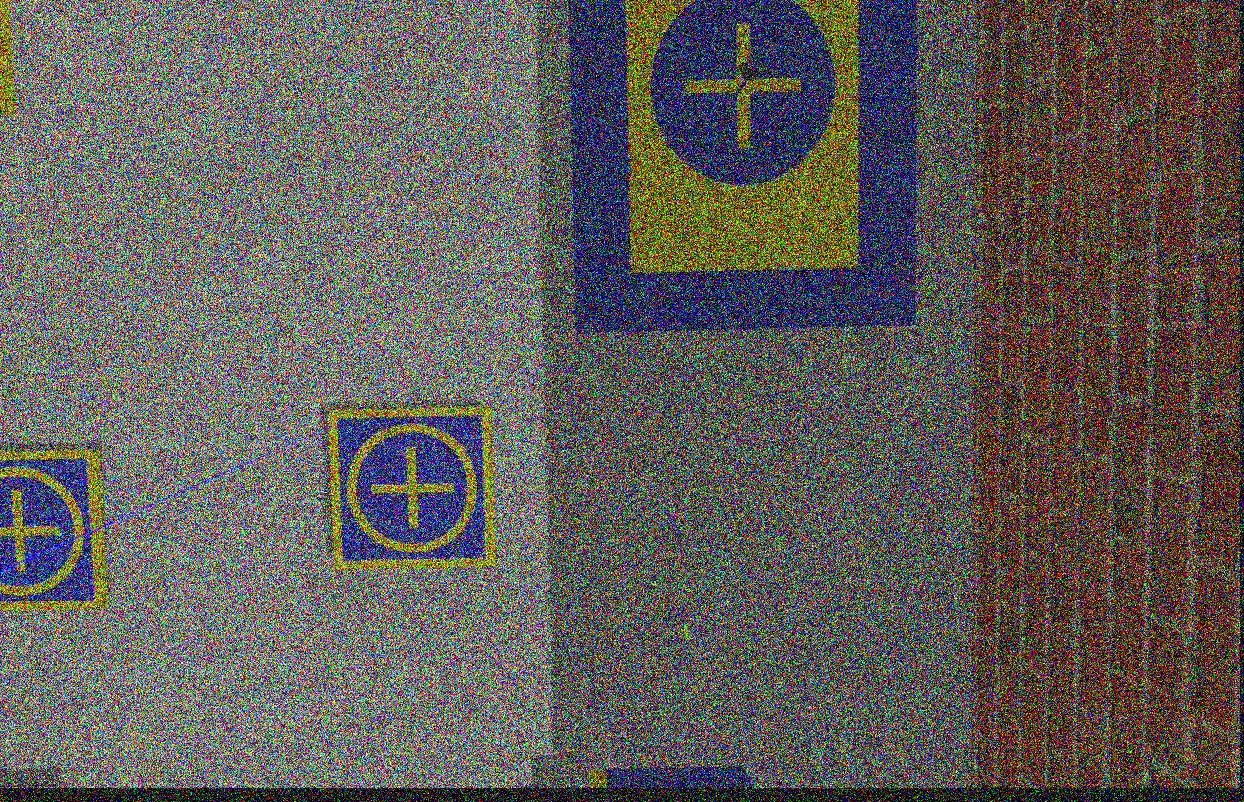large_base: (568, 1, 919, 335)
small_base: (326, 409, 499, 573), (0, 446, 111, 614)
